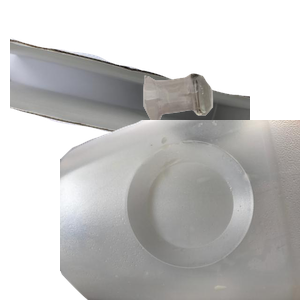cardboard: (10, 35, 250, 188)
glass: (141, 71, 300, 187)
plastic: (60, 120, 300, 300)
trash: (60, 120, 300, 300)
